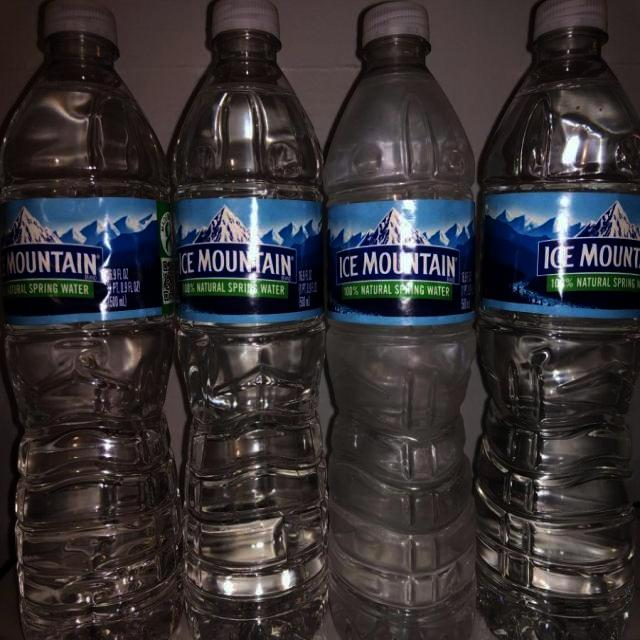bottle: (0, 0, 184, 640), (475, 0, 640, 640), (168, 0, 330, 640), (321, 0, 477, 640)
